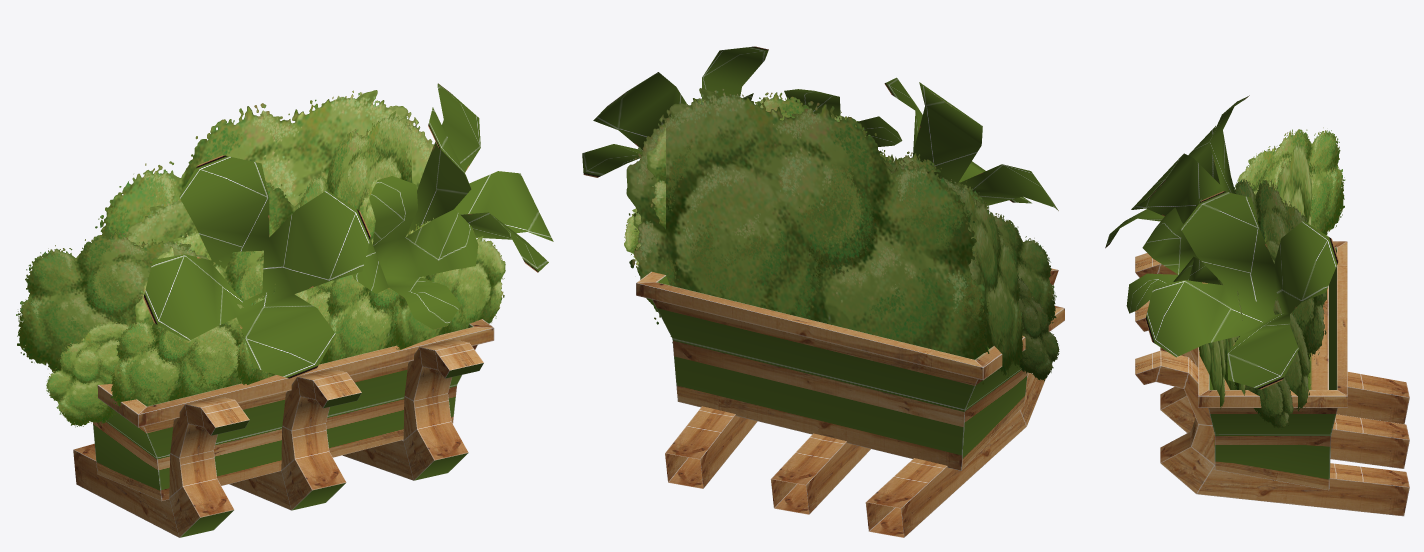
File: flowerBox02.fbx
3 views of the same model, side by side, from view 1: azimuth 30°, elevation 25°; view 2: azimuth 150°, elevation 25°; view 3: azimuth 270°, elevation 25° (orthographic). The views are drawn at different scales.
Parts seen in each view (by area): view 1: Flower02; view 2: Flower02; view 3: Flower02.
Boxes of the visible parts, x1,y1,x2,y2 form: Flower02: [16, 83, 553, 537]; Flower02: [582, 46, 1064, 537]; Flower02: [1105, 95, 1409, 516].
Bounding box in the file's own units: 6.07 × 4.79 × 3.51.
